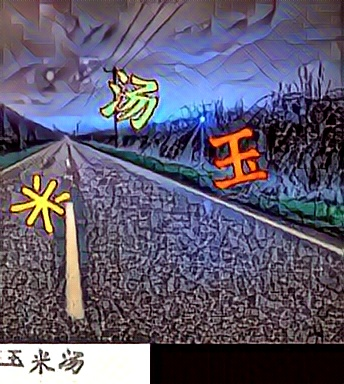C3D7: (9, 172, 71, 236)
CCC0: (99, 65, 161, 129)
D3F1: (206, 125, 268, 189)
